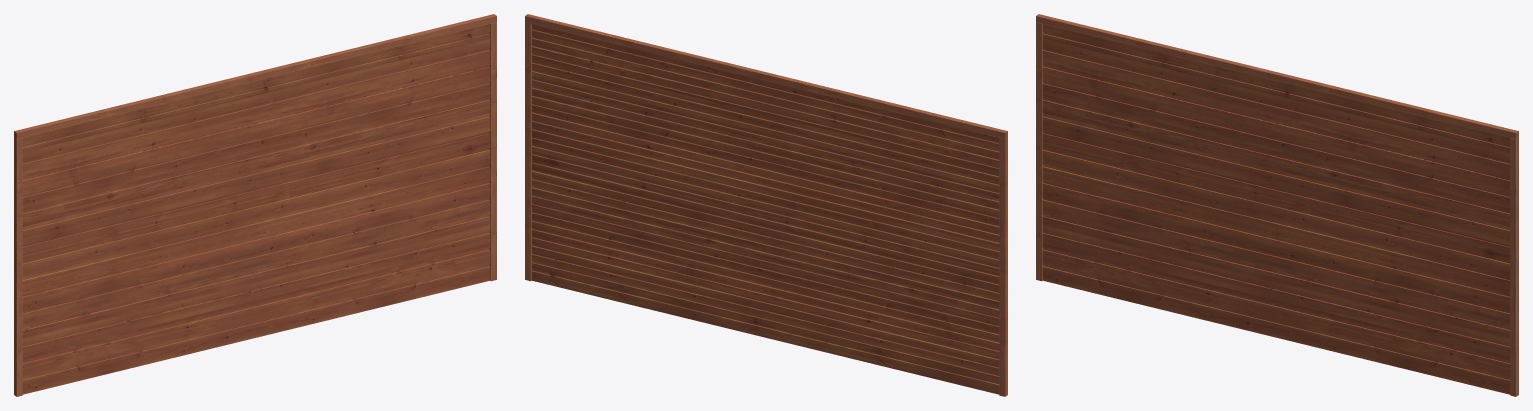
The model's file is 15ftx7.875ft.obj.
3 renders of one model, left to right at view 1: azimuth 30°, elevation 25°; view 2: azimuth 150°, elevation 25°; view 3: azimuth 330°, elevation 25°, orthographic.
Visible parts, largest first — view 1: wall_planks, trim_top, trim_left, trim_right; view 2: wall_planks, trim_top, trim_left, trim_right; view 3: wall_planks, trim_top, trim_right, trim_left.
Boxes of the visible parts, <box> form: wall_planks: <box>22,24,490,394</box>; trim_top: <box>14,14,496,139</box>; trim_left: <box>14,137,22,396</box>; trim_right: <box>489,22,496,281</box>; wall_planks: <box>532,24,999,394</box>; trim_top: <box>525,14,1007,139</box>; trim_left: <box>999,137,1007,396</box>; trim_right: <box>525,22,531,281</box>; wall_planks: <box>1042,24,1510,394</box>; trim_top: <box>1036,14,1518,139</box>; trim_right: <box>1510,137,1518,396</box>; trim_left: <box>1036,22,1043,281</box>.
Size of the model in its own units: 180 by 94.5 by 1.82.
